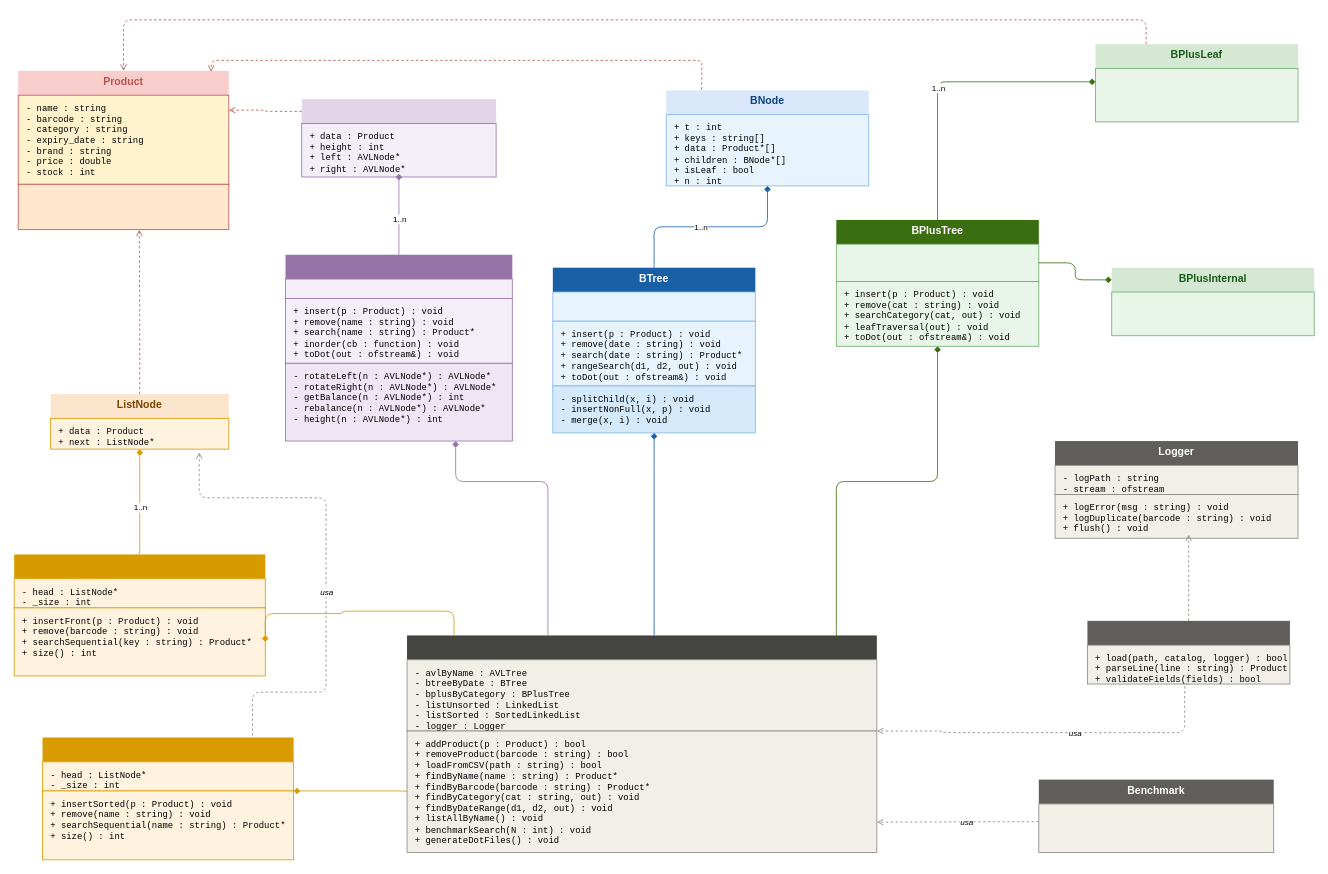
The diagram is 1328 pixels wide and 874 high, and some of its shapes have lost their labels. Each missing label, with the box of its shape:
+ isValid() : bool + toString() : string + operator==(const Product&) : bool: (17, 183, 229, 230)
+ keys : string[] + children : BPlusNode*[] + n : int: (1111, 291, 1314, 336)
+ keys : string[] + data : Product*[] + next : BPlusLeaf* + n : int: (1095, 68, 1298, 122)
+ run(catalog : Catalog&, N : int) : void + reportResults() : void: (1038, 803, 1274, 853)
- root : AVLNode*: (285, 278, 512, 298)
- root : BNode* - t : int: (552, 291, 755, 321)
- root : BPlusNode* - firstLeaf : BPlusLeaf* - t : int: (836, 243, 1039, 281)
AVLNode: (301, 99, 496, 123)
AVLTree: (285, 254, 512, 279)
Catalog: (407, 635, 876, 659)
CSVLoader: (1087, 620, 1290, 645)
LinkedList: (14, 554, 265, 578)
SortedLinkedList: (42, 737, 293, 761)
